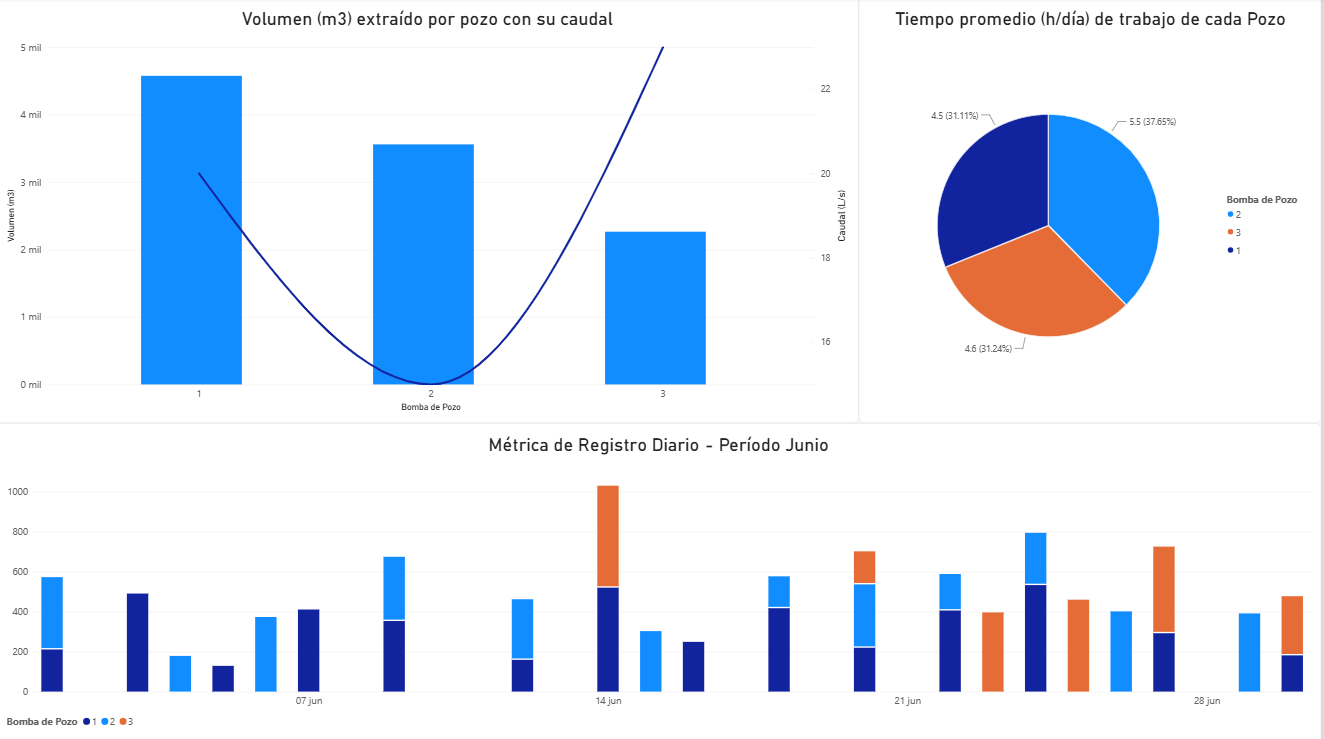

This screenshot's page, from the dashboard's own definition file:
{"tool":"powerbi","page":{"name":"Página 1","canvas":[1920,1080],"ordinal":0},"visuals":[{"type":"lineStackedColumnComboChart","title":"Volumen (m3) extraído por pozo con su caudal","fields":{"Category":["registro_pozos_final.pozo"],"Y":["Sum(registro_pozos_final.m3)"],"Y2":["Avg(registro_pozos_final.Caudal l/s)"]},"box":[0,0,1250.5,617.1],"z":0},{"type":"columnChart","title":"Métrica de Registro Diario - Período Junio","fields":{"Category":["registro_pozos_final.Fecha"],"Series":["registro_pozos_final.pozo"],"Y":["Sum(registro_pozos_final.m3)"]},"box":[0,617.1,1920.1,463.3],"z":1000},{"type":"pieChart","title":"Tiempo promedio (h/día) de trabajo de cada Pozo","fields":{"Category":["registro_pozos_final.pozo"],"Y":["registro_pozos_final.HHR/mensual"]},"box":[1250.5,0,669.6,617.1],"z":2000}]}

Visuals, with their boxes in screenshot pixels (x1, y1, x2, y2), scaled from the page's 1920x1080 canvas onto the 1324x739 screenshot:
"Volumen (m3) extraído por pozo con su caudal" lineStackedColumnComboChart: crop(0, 0, 862, 422)
"Métrica de Registro Diario - Período Junio" columnChart: crop(0, 422, 1323, 738)
"Tiempo promedio (h/día) de trabajo de cada Pozo" pieChart: crop(862, 0, 1323, 422)
